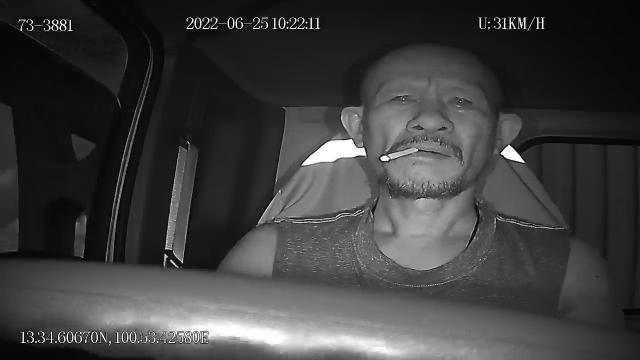SafeDriving: (442, 86, 480, 114), (382, 85, 423, 110)
Smoking: (380, 147, 418, 163)
